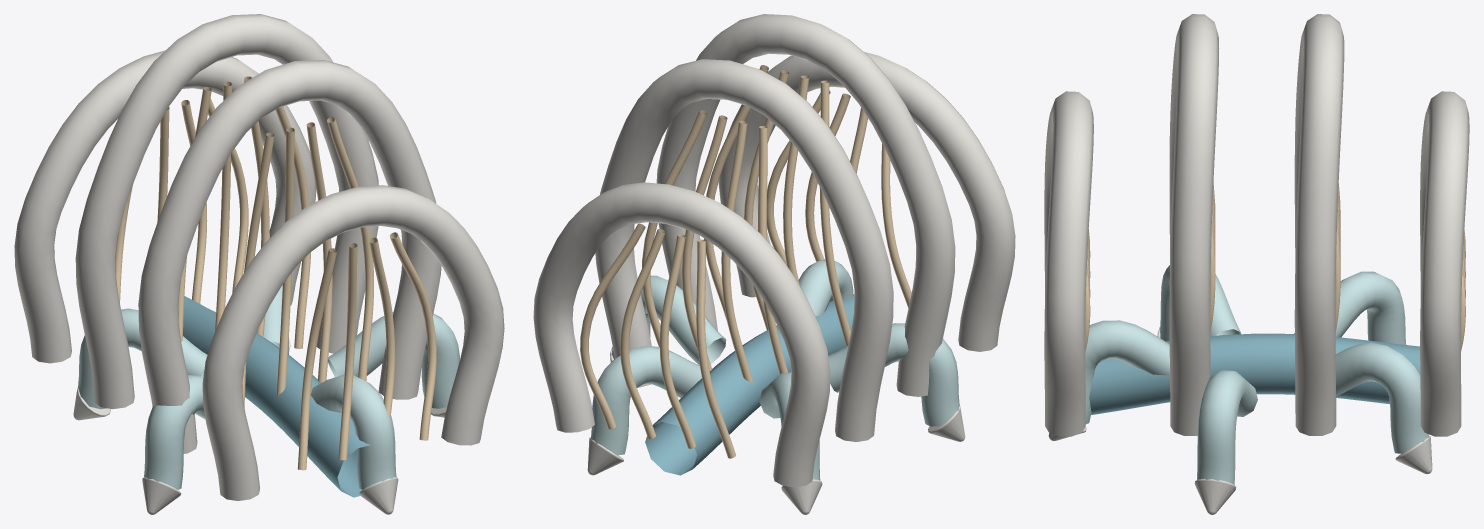
Rendered from bio_blind_harp_06_near.glb.
3 views of the same model, side by side, from view 1: azimuth 30°, elevation 25°; view 2: azimuth 150°, elevation 25°; view 3: azimuth 270°, elevation 25° (orthographic).
Visible parts, largest first — view 1: Open rib arch.001, Open rib arch, Open rib arch.002, Open rib arch.003, Low axial spine, Resonance filament, Resonance filament.004, Resonance filament.008, Crooked support.003, Resonance filament.012, Crooked support.002, Crooked support.004 (+4 smaller); view 2: Open rib arch.002, Open rib arch.003, Open rib arch.001, Open rib arch, Low axial spine, Resonance filament.012, Resonance filament.008, Resonance filament.004, Crooked support, Resonance filament, Crooked support.002, Crooked support.004 (+5 smaller); view 3: Open rib arch.002, Open rib arch.001, Open rib arch, Open rib arch.003, Low axial spine, Crooked support, Crooked support.004, Crooked support.001, Crooked support.003, Crooked support.002, Contact spur.004, Contact spur (+2 smaller).
Boxes of the visible parts, x1=… form: Open rib arch.001: x1=138, y1=60, x2=441, y2=453; Open rib arch: x1=202, y1=185, x2=504, y2=500; Open rib arch.002: x1=75, y1=14, x2=378, y2=409; Open rib arch.003: x1=14, y1=50, x2=316, y2=363; Low axial spine: x1=183, y1=296, x2=370, y2=497; Resonance filament: x1=297, y1=232, x2=436, y2=470; Resonance filament.004: x1=242, y1=117, x2=373, y2=406; Resonance filament.008: x1=178, y1=76, x2=310, y2=348; Crooked support.003: x1=310, y1=374, x2=396, y2=489; Resonance filament.012: x1=115, y1=98, x2=248, y2=303; Crooked support.002: x1=144, y1=374, x2=205, y2=489; Crooked support.004: x1=328, y1=311, x2=459, y2=408; Open rib arch.002: x1=595, y1=59, x2=893, y2=441; Open rib arch.003: x1=533, y1=182, x2=830, y2=487; Open rib arch.001: x1=656, y1=14, x2=955, y2=396; Open rib arch: x1=718, y1=52, x2=1015, y2=351; Low axial spine: x1=645, y1=294, x2=854, y2=475; Resonance filament.012: x1=580, y1=223, x2=735, y2=458; Resonance filament.008: x1=642, y1=110, x2=787, y2=382; Resonance filament.004: x1=704, y1=65, x2=851, y2=346; Crooked support: x1=589, y1=345, x2=701, y2=455; Resonance filament: x1=767, y1=90, x2=911, y2=308; Crooked support.002: x1=828, y1=323, x2=959, y2=426; Crooked support.004: x1=611, y1=275, x2=726, y2=365; Open rib arch.002: x1=1294, y1=14, x2=1344, y2=435; Open rib arch.001: x1=1169, y1=14, x2=1219, y2=435; Open rib arch: x1=1044, y1=91, x2=1093, y2=436; Open rib arch.003: x1=1420, y1=91, x2=1469, y2=436; Low axial spine: x1=1089, y1=333, x2=1420, y2=414; Crooked support: x1=1335, y1=342, x2=1430, y2=453; Crooked support.004: x1=1197, y1=370, x2=1257, y2=487; Crooked support.001: x1=1294, y1=271, x2=1405, y2=344; Crooked support.003: x1=1085, y1=320, x2=1169, y2=424; Crooked support.002: x1=1160, y1=265, x2=1241, y2=341; Contact spur.004: x1=1194, y1=478, x2=1236, y2=514; Contact spur: x1=1395, y1=436, x2=1432, y2=474.
Bounding box in the file's own units: 1.91 × 2.18 × 2.09.
